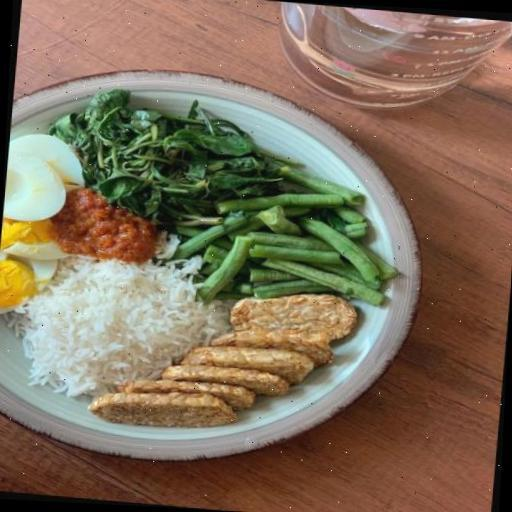buncis_rebus: (206, 158, 414, 313)
nasi_putih: (39, 252, 215, 380)
tempe_goreng: (220, 284, 373, 359)
